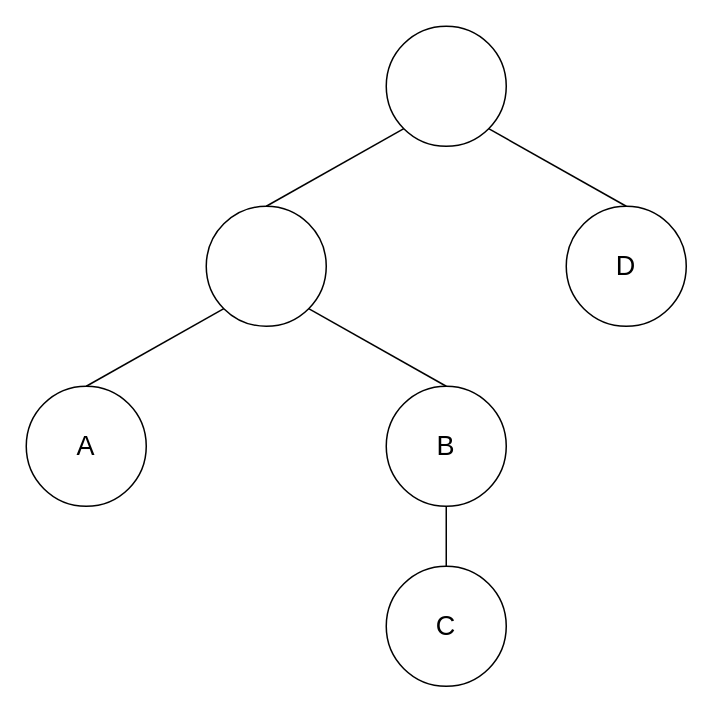
The diagram is 713 pixels wide and 713 high, and some of its shapes have lost their labels. Each missing label, with the centre of its shape:
violate: the point at 445,85
violateLeft: the point at 265,265
